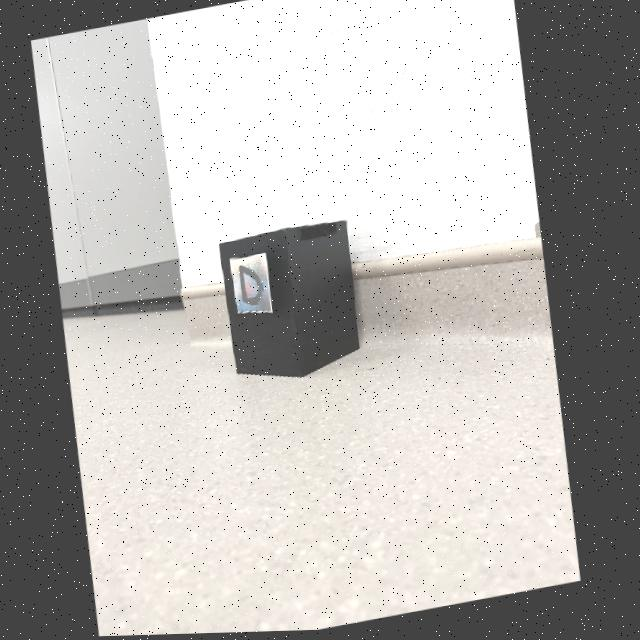D: (242, 267, 266, 306)
